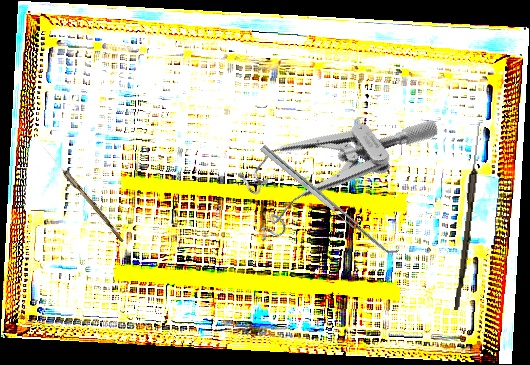Spatula Surgical: (260, 139, 400, 260)
Speculum: (219, 59, 443, 259)
Surgical Spoon: (40, 145, 127, 243), (454, 122, 483, 311)
